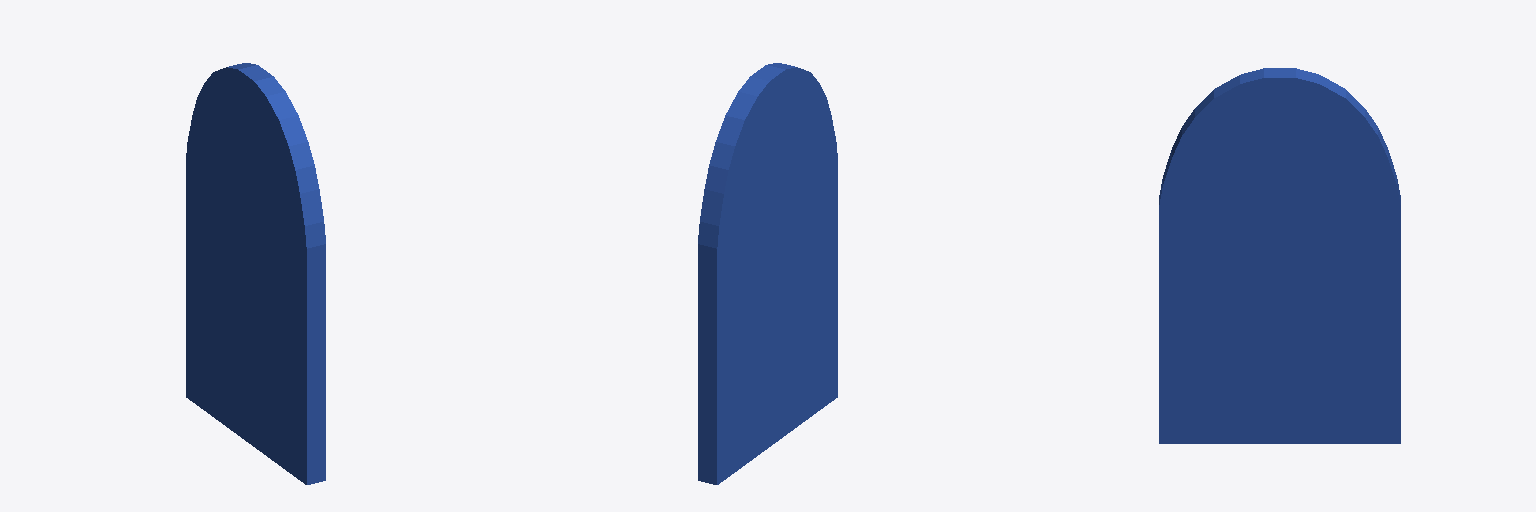
Rendered from env2-pintu2-3.obj.
The picture shows the model from 3 angles: view 1: azimuth 30°, elevation 25°; view 2: azimuth 150°, elevation 25°; view 3: azimuth 270°, elevation 25°; orthographic projection.
Parts seen in each view (by area): view 1: Cube.034_Cube.001_Cube.034_Cube.004; view 2: Cube.034_Cube.001_Cube.034_Cube.004; view 3: Cube.034_Cube.001_Cube.034_Cube.004.
Part boxes in pixels (x1,y1,x2,y2): Cube.034_Cube.001_Cube.034_Cube.004: (186,63,325,484); Cube.034_Cube.001_Cube.034_Cube.004: (698,63,837,484); Cube.034_Cube.001_Cube.034_Cube.004: (1159,68,1400,443).
Size of the model in its own units: 0.459 by 8.2 by 4.91.